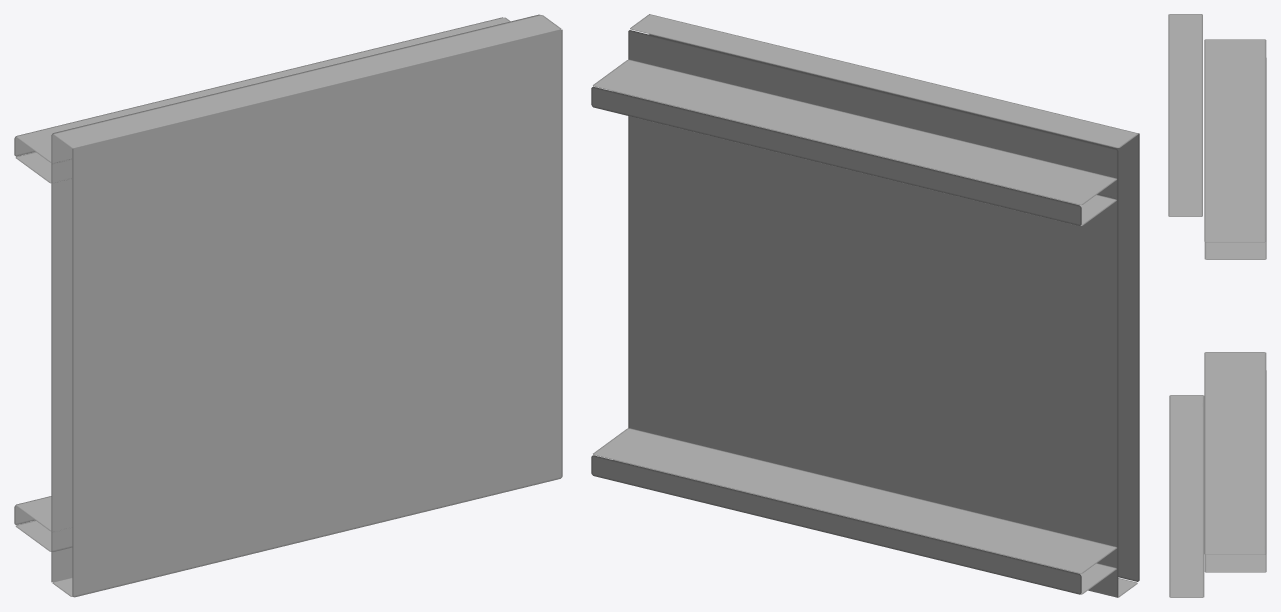
Rendered from pz_table_tables_high_02_long_oak_1_0.obj.
3 renders of one model, left to right at view 1: azimuth 30°, elevation 25°; view 2: azimuth 150°, elevation 25°; view 3: azimuth 270°, elevation 25°, orthographic. The views are drawn at different scales.
Bounding box in the file's own units: 1 × 0.875 × 0.205.
1 material, 1 textured.
